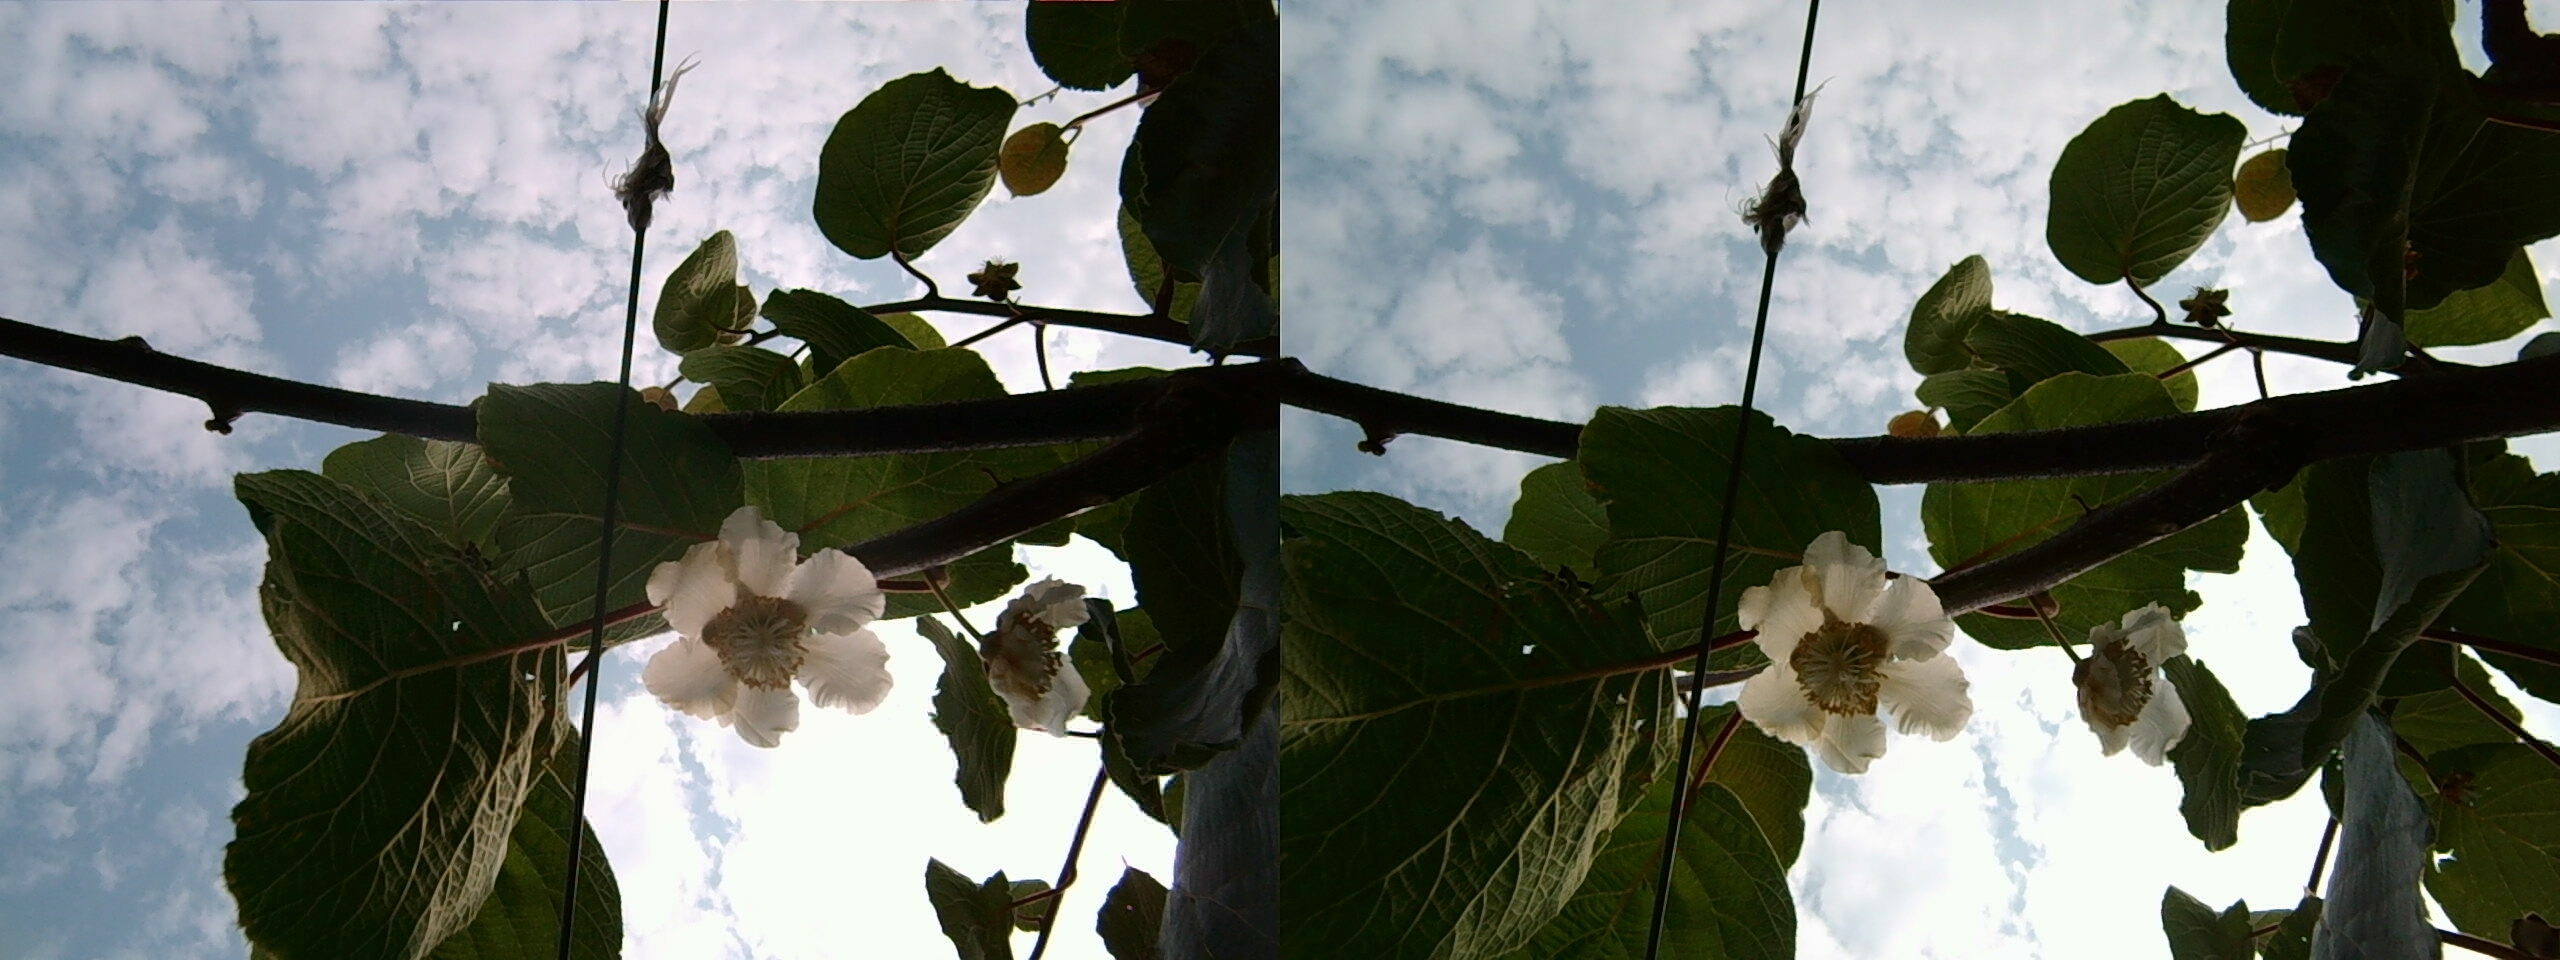flower: (633, 501, 890, 746), (1718, 526, 1966, 772), (2075, 599, 2198, 759), (981, 570, 1099, 730)
